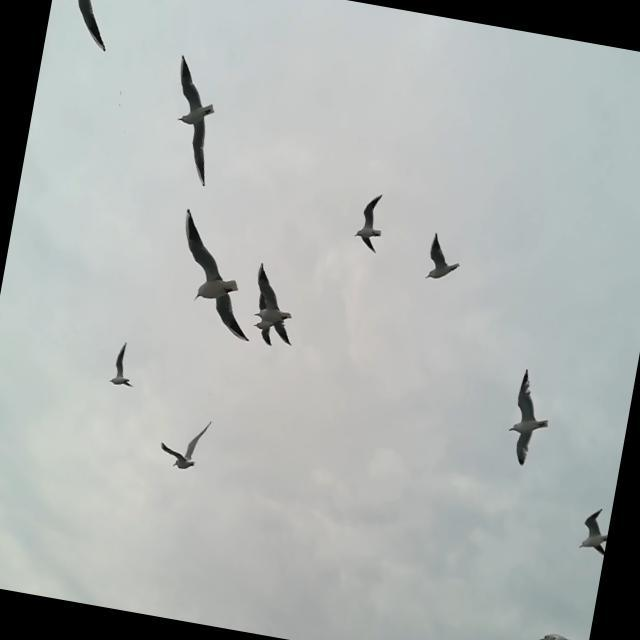bird: (162, 201, 271, 343), (155, 50, 230, 187), (499, 363, 557, 473), (245, 261, 305, 349), (43, 0, 123, 57), (156, 409, 215, 475), (351, 186, 390, 259), (423, 225, 466, 288), (573, 503, 612, 560), (107, 333, 143, 390), (249, 290, 281, 348), (528, 626, 589, 640)
